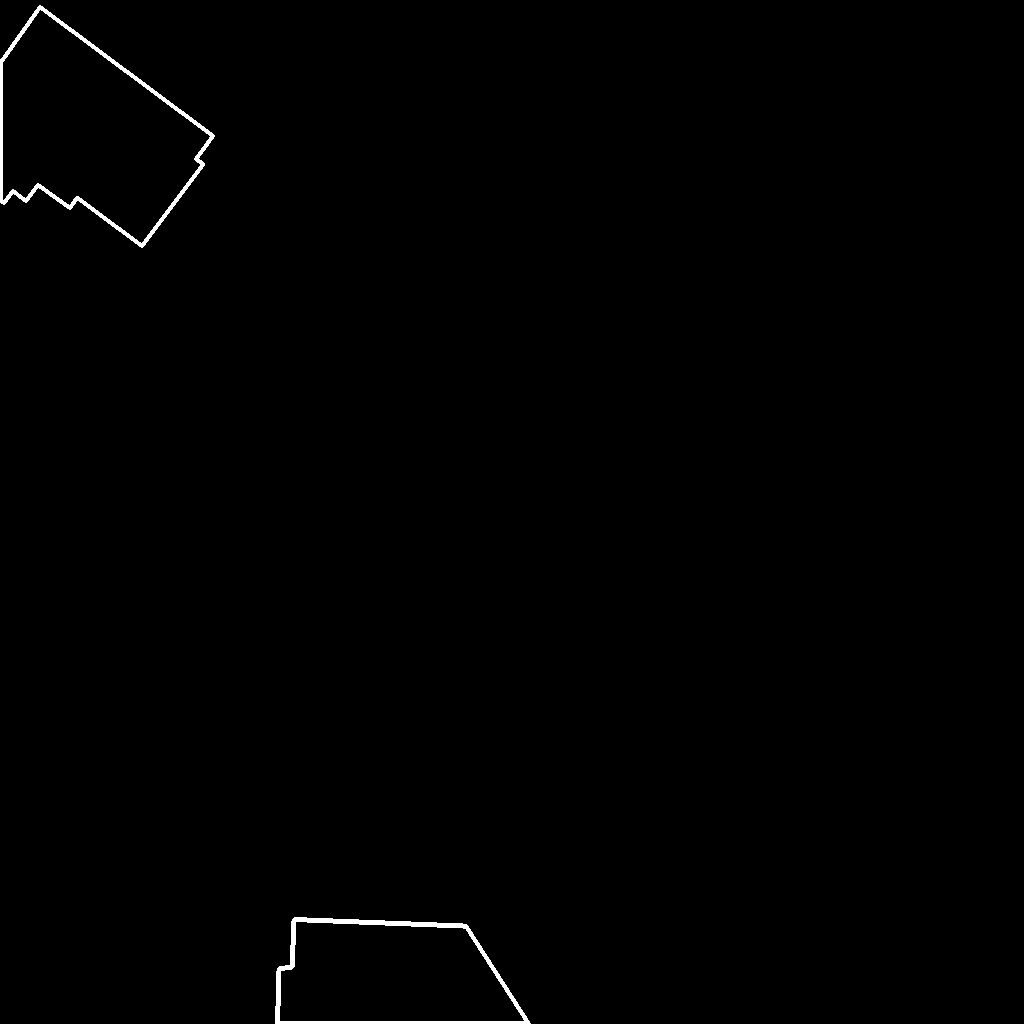building: (0, 7, 214, 247), (277, 919, 530, 1024)
